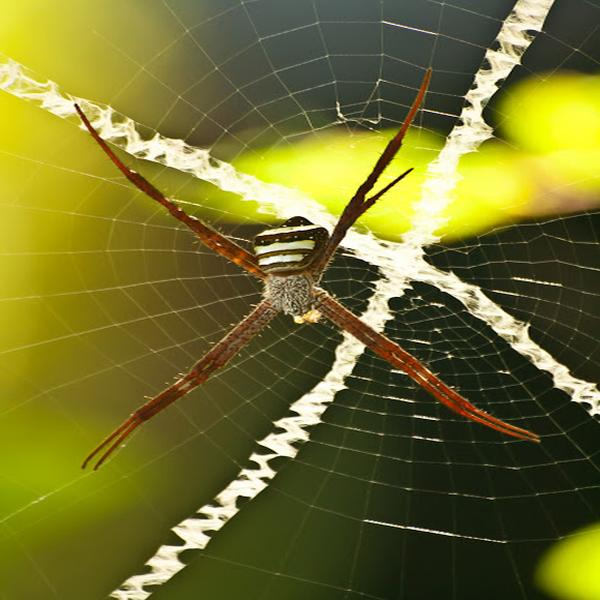St Andrew's Cross Spider: (81, 73, 537, 468)
